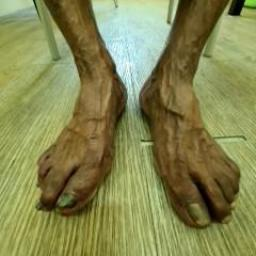Front View -Both Feet-: (15, 45, 251, 239)
